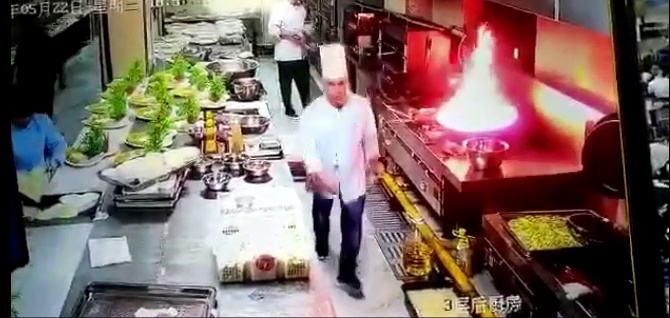fire: (444, 29, 525, 130)
